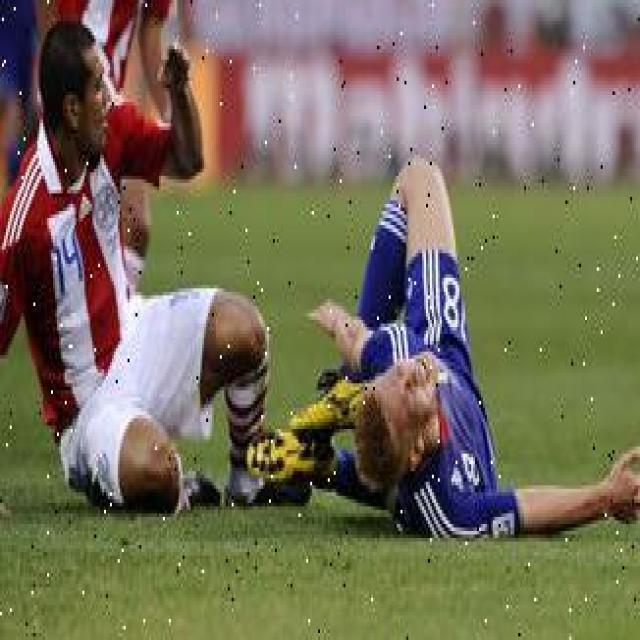fall: (14, 36, 275, 507), (326, 155, 630, 534)
